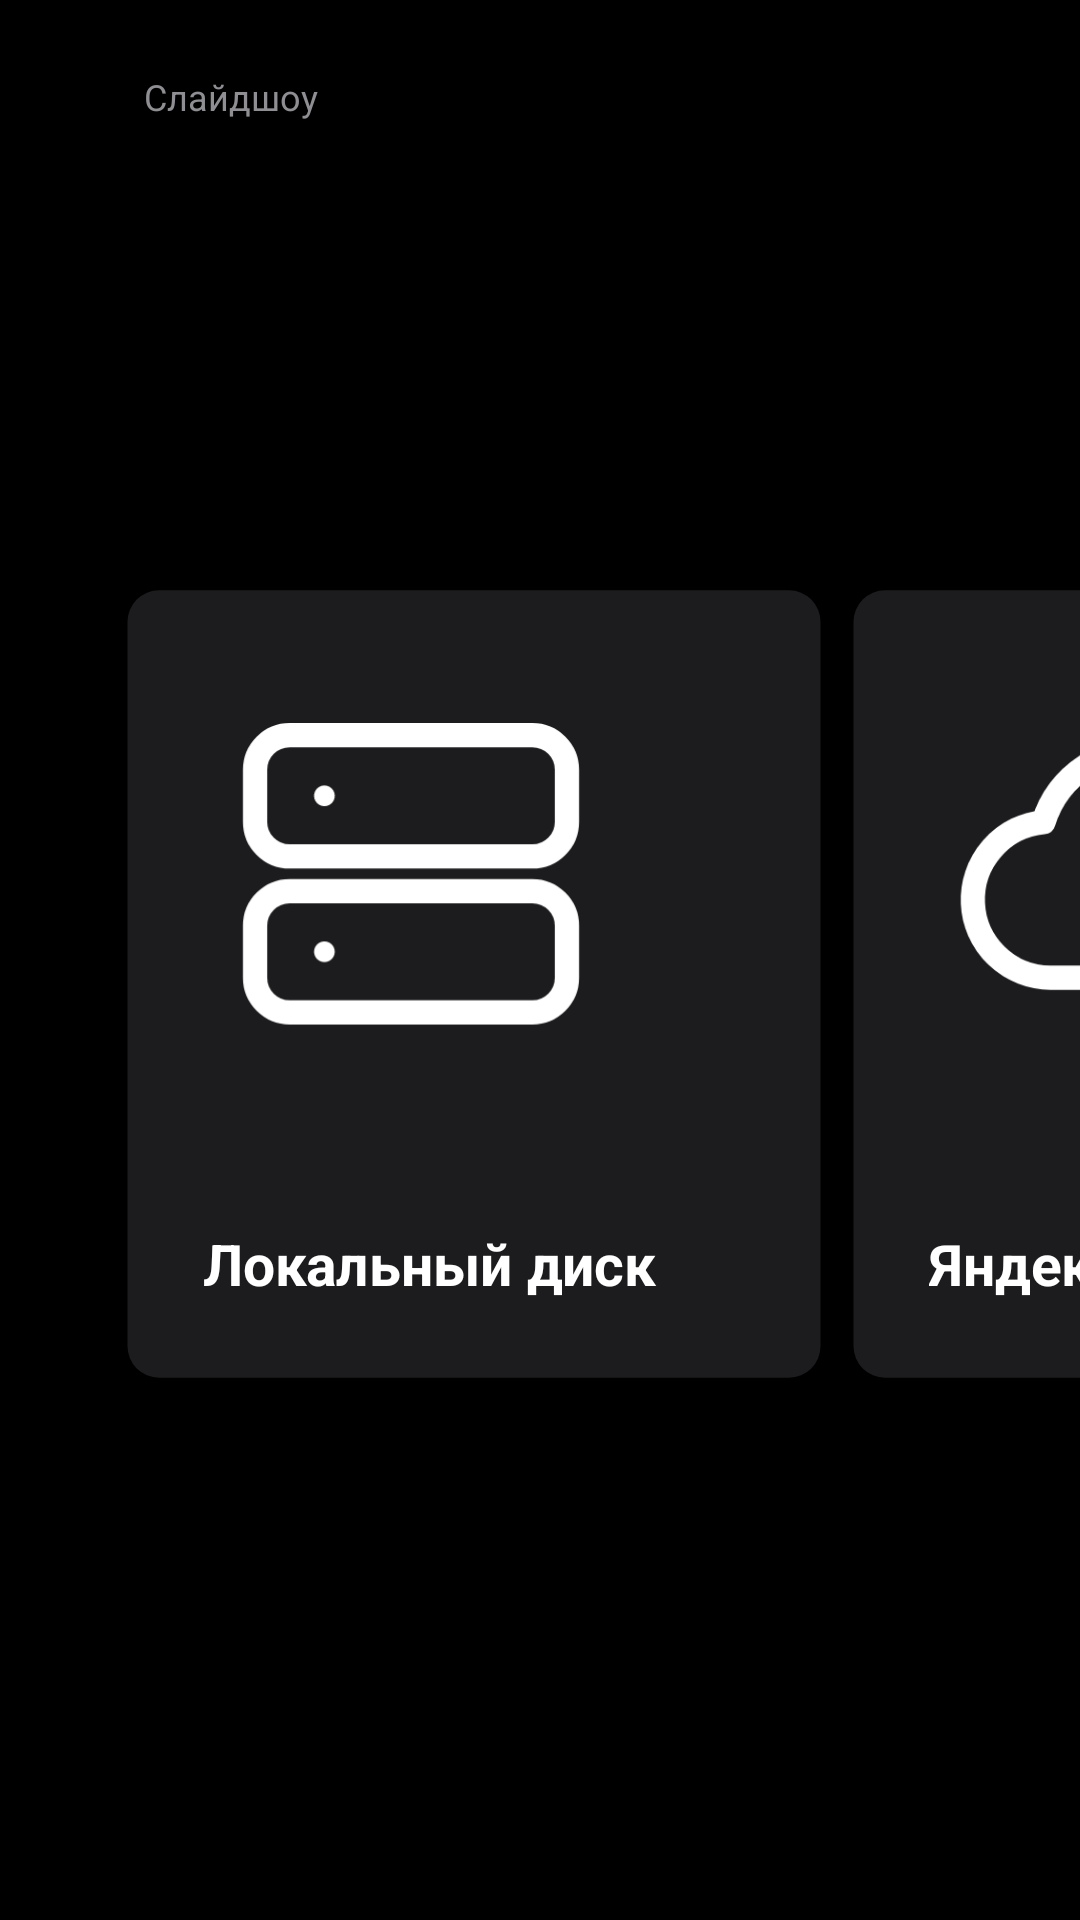

Where to tap for icons on this 1080w x 1920h app screen, as point (x, y):
storage: point (411, 874)
